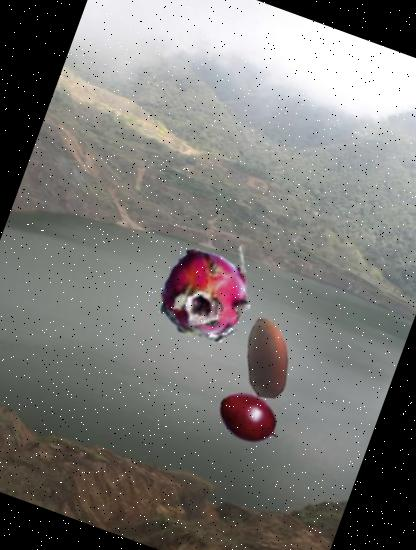Hazelnut: (216, 304, 320, 409)
Pitahaya: (141, 235, 264, 358)
Tamarillo: (207, 375, 293, 462)
